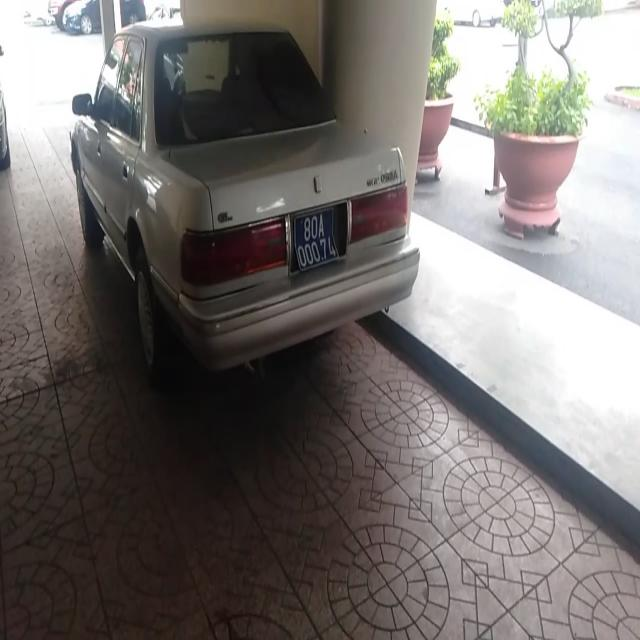bien_xanh: (292, 206, 344, 270)
